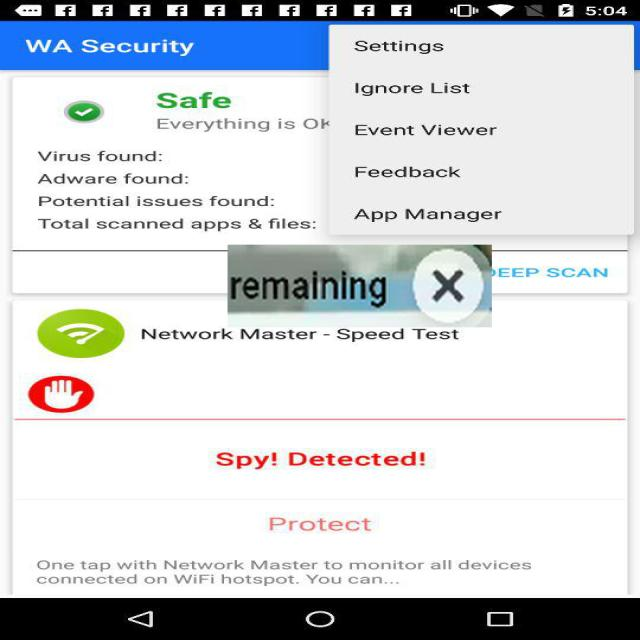misdirection: (227, 245, 492, 327)
